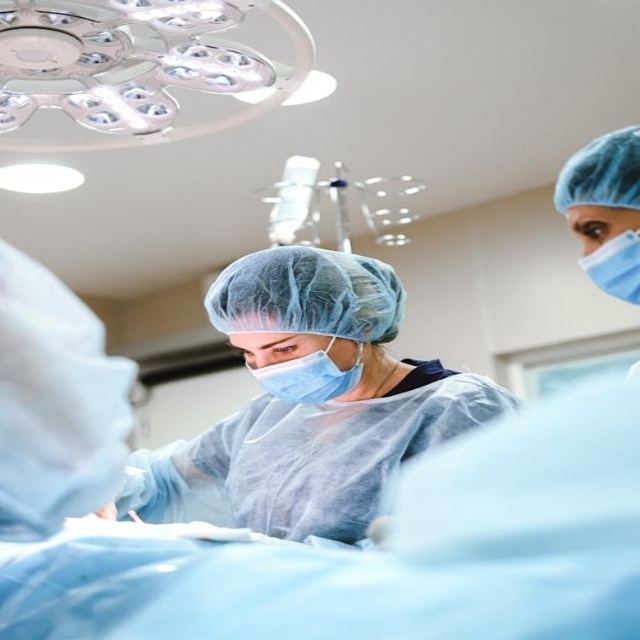Mascara: (246, 334, 367, 405), (575, 225, 640, 306)
Sin_gafas: (221, 329, 314, 363), (557, 206, 625, 241)
